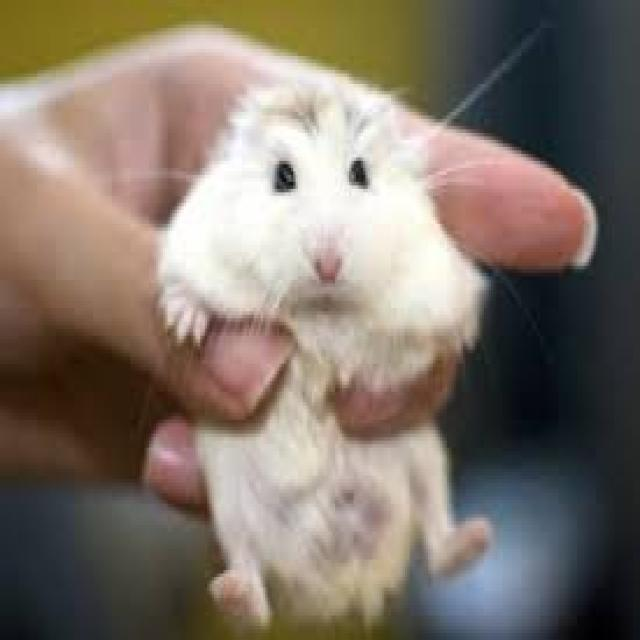hamster: (190, 108, 489, 610)
